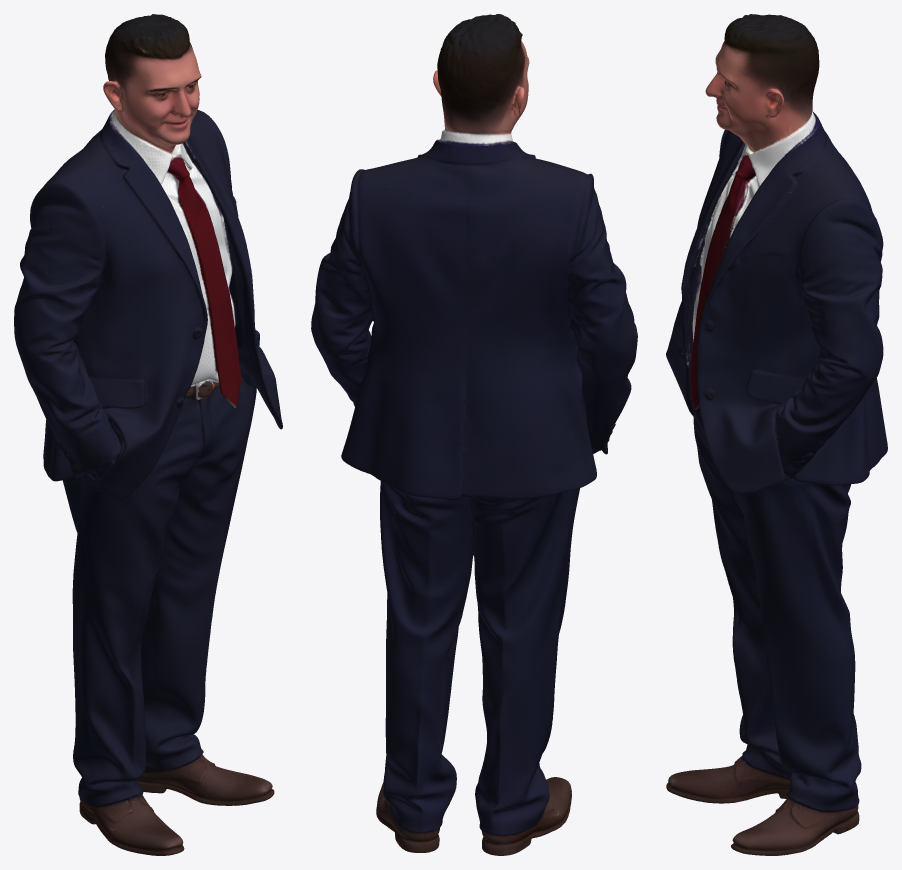
The model's file is Meshy_AI_Dressed_for_Success_0515035710_texture.glb.
3 renders of one model, left to right at view 1: azimuth 30°, elevation 25°; view 2: azimuth 150°, elevation 25°; view 3: azimuth 270°, elevation 25°, orthographic.
Visible parts, largest first — view 1: Mesh_0.002; view 2: Mesh_0.002; view 3: Mesh_0.002.
Boxes of the visible parts, box(x1,y1,x2,y2) form: Mesh_0.002: box(14, 14, 282, 855); Mesh_0.002: box(311, 14, 637, 855); Mesh_0.002: box(666, 14, 887, 855).
Bounding box in the file's own units: 0.6299 × 1.8 × 0.4587.
1 material, 1 textured.
